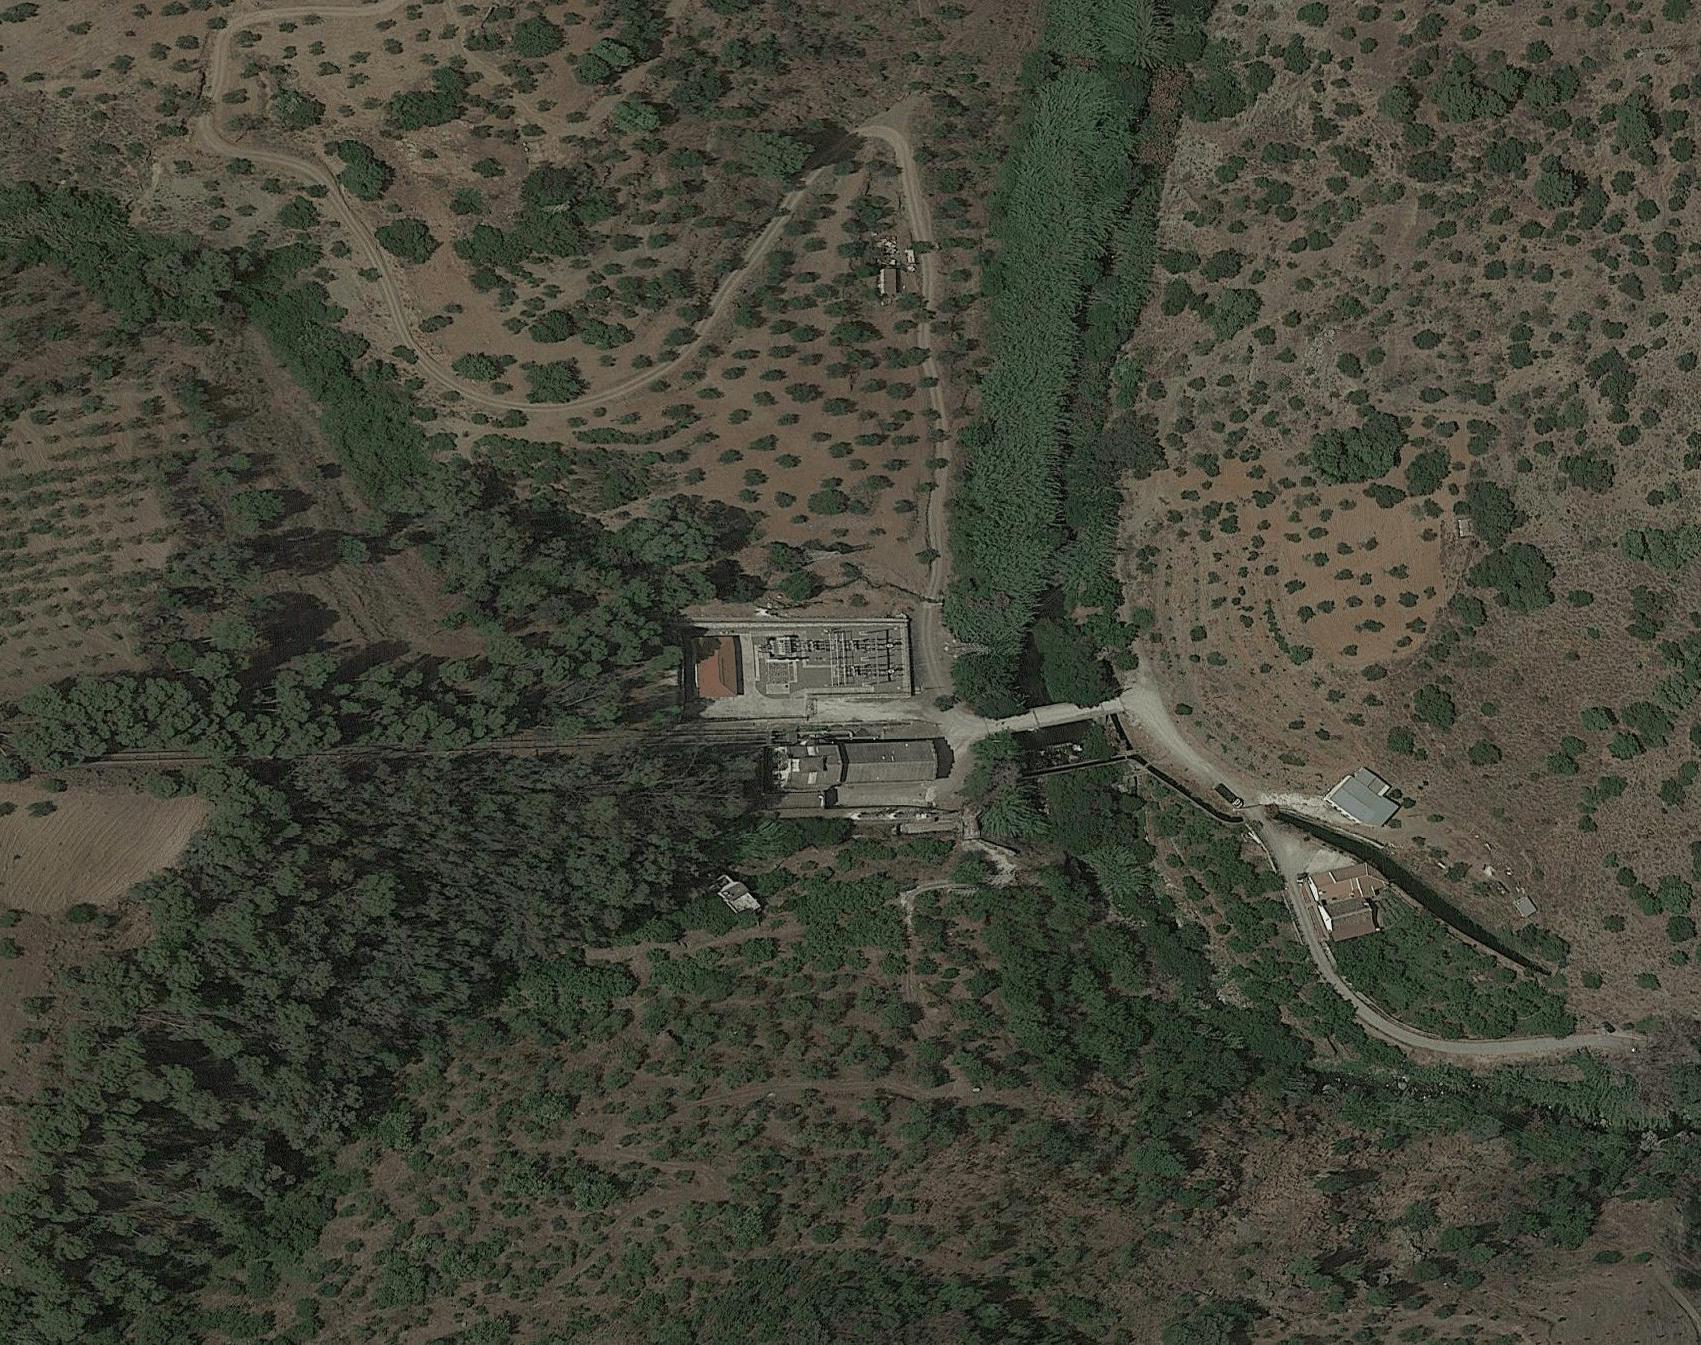substation: (757, 621, 906, 695)
